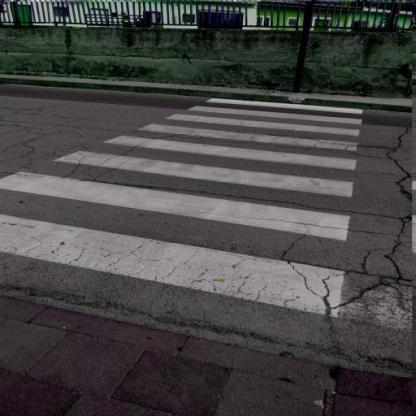crosswalk: (22, 134, 366, 202), (138, 96, 374, 126)
